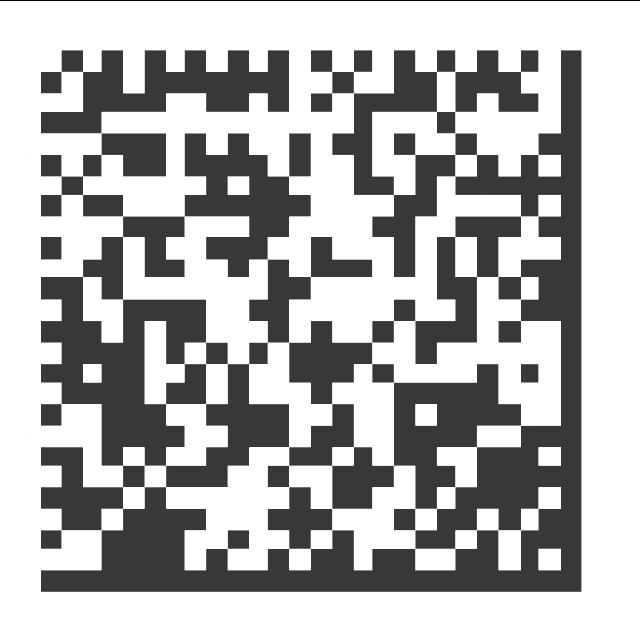DataMatrix: (28, 37, 584, 600)
